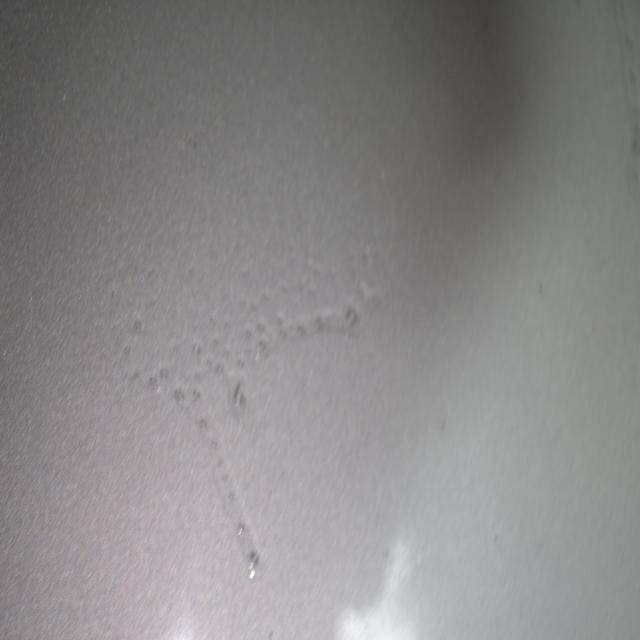dirt: (438, 412, 450, 436), (538, 280, 544, 296)
runs: (99, 236, 389, 589), (617, 0, 640, 197)
